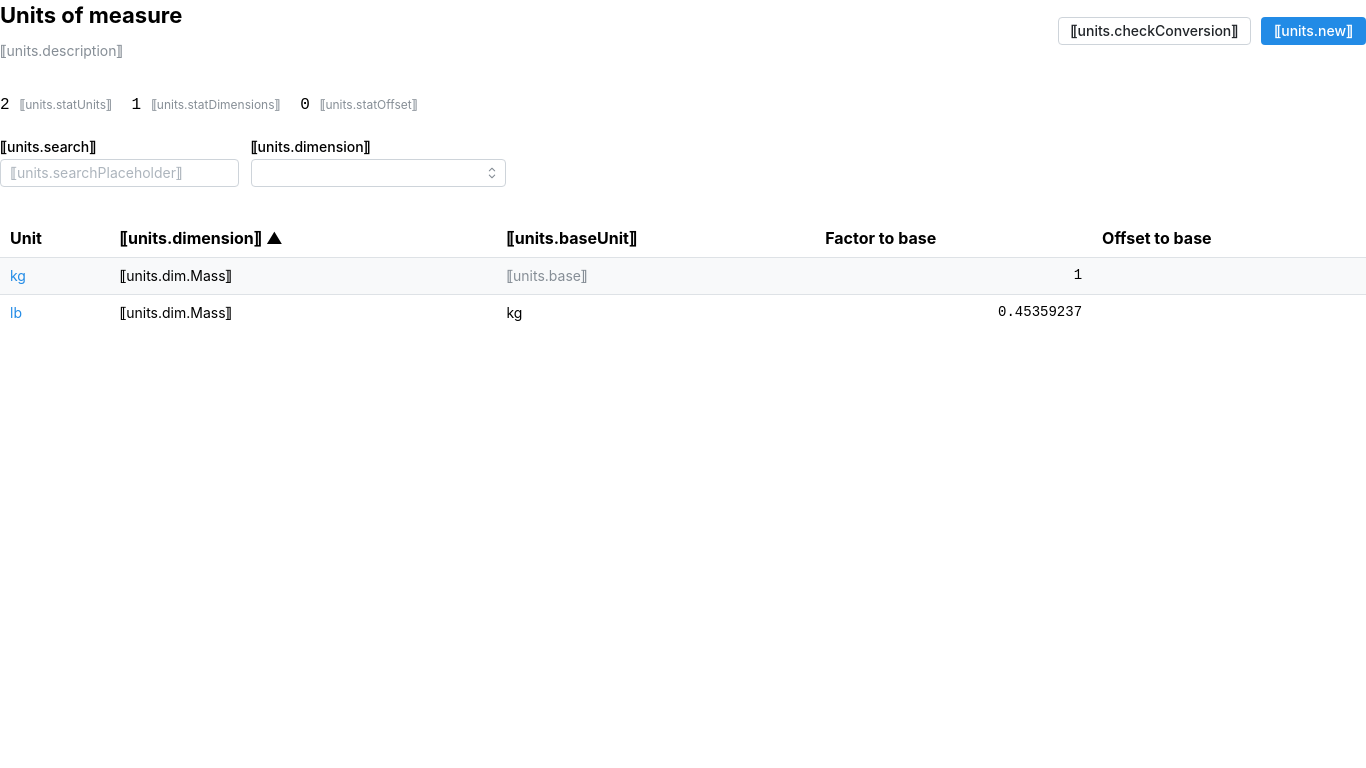
UnitEditModal: правка одиниці (BE-15 ч.2) › базова одиниця — множник вимкнений
The image size is (1366, 768).
Click the button "kg" at (18, 276), box [10,266,26,286]
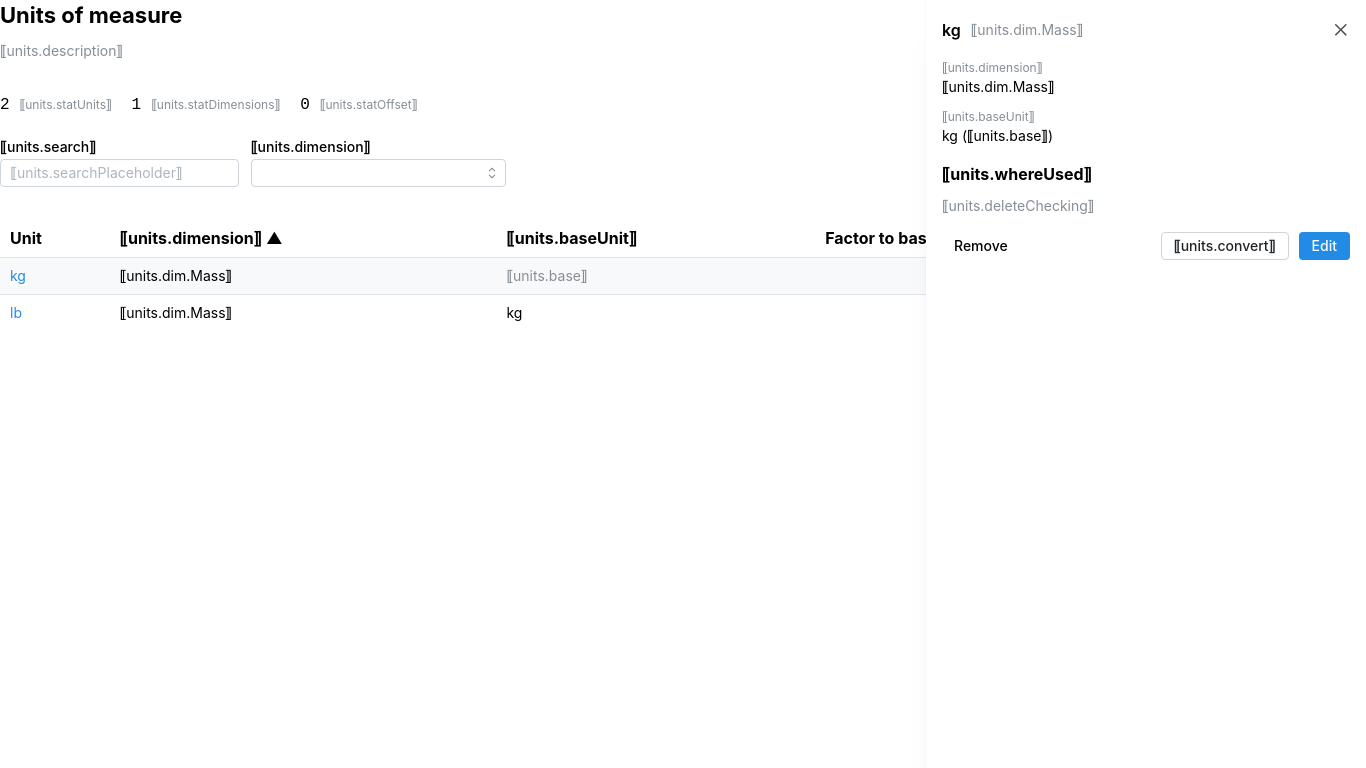
Click the button "Edit" at (1324, 246), box [1299,232,1350,260]
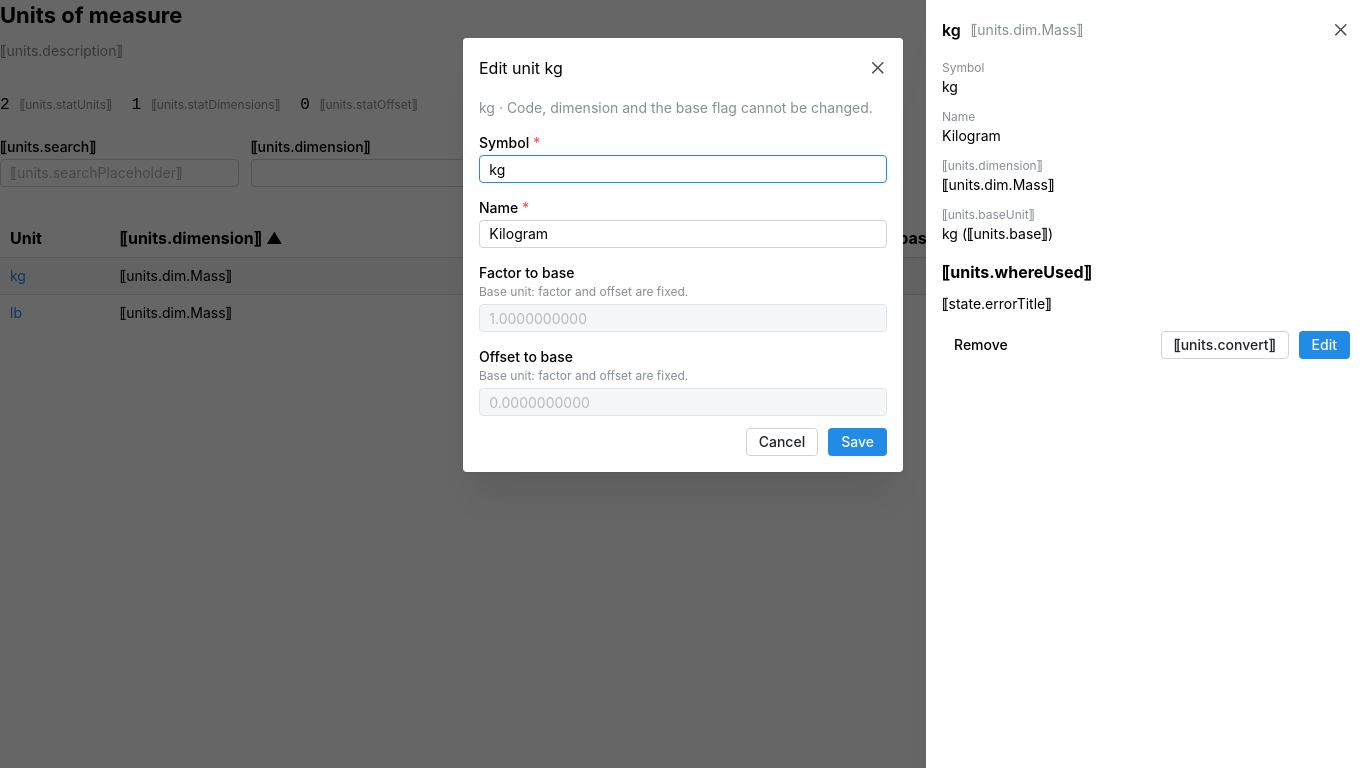
Result: the 1st text "Base unit: factor and offset are fixed." is shown at [479,284,688,299]
